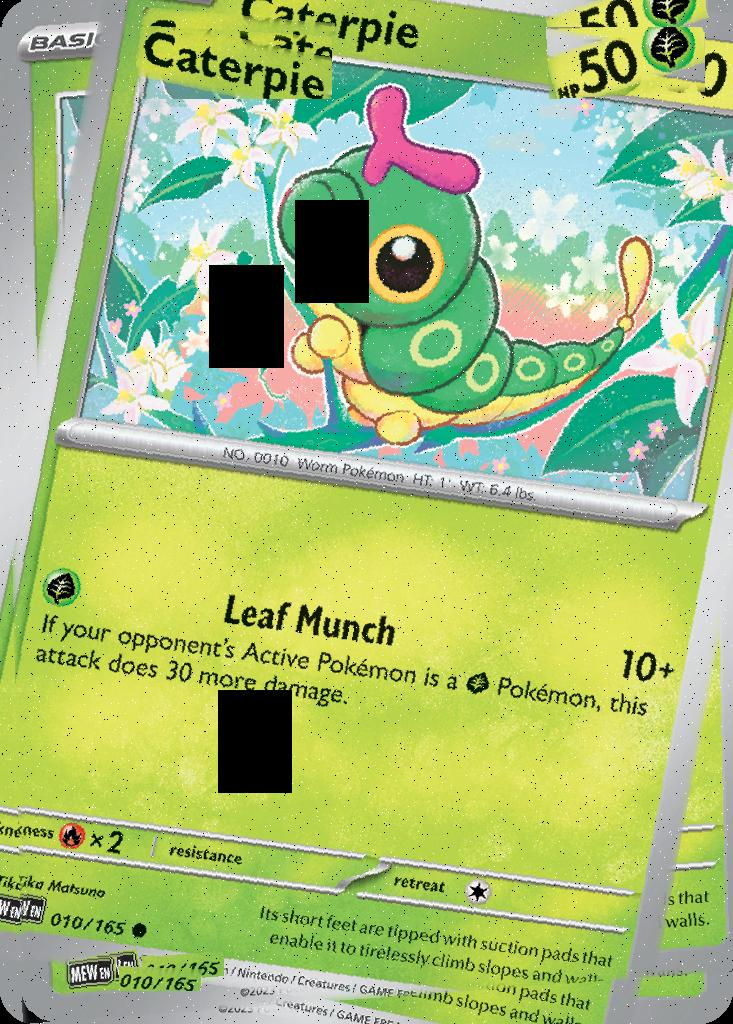card: (0, 0, 733, 1024)
hp: (547, 28, 706, 100)
name: (136, 26, 333, 100)
set num: (120, 966, 203, 991)
set symbol: (70, 958, 118, 991)
